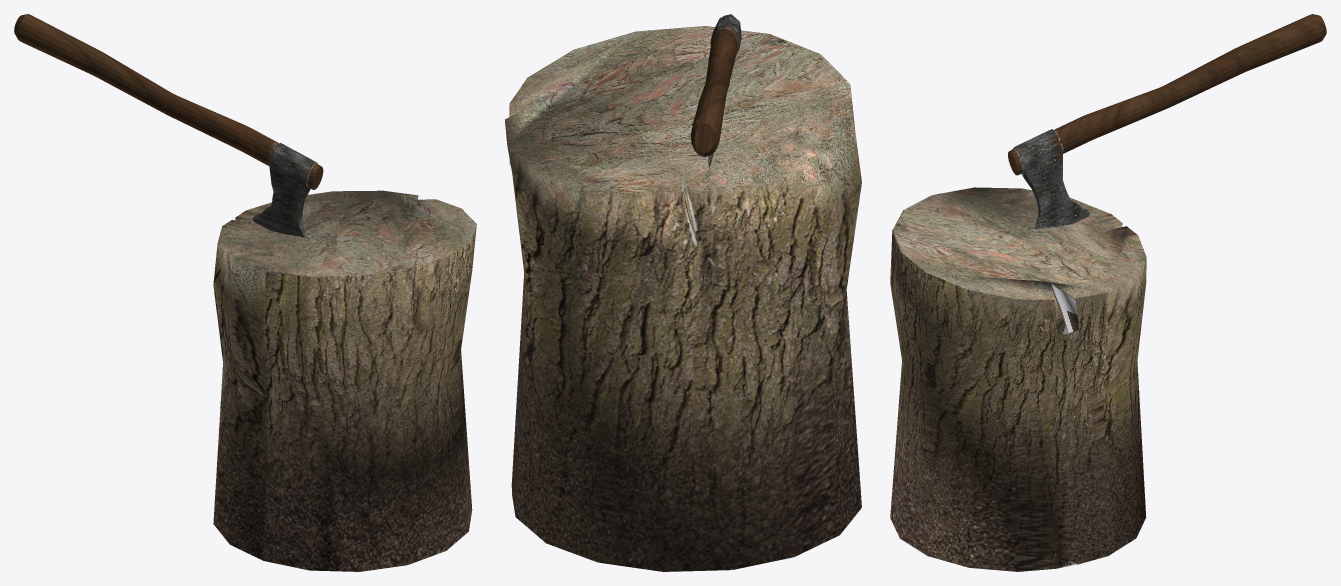
Rendered from TreeStump.fbx.
3 views of the same model, side by side, from view 1: azimuth 30°, elevation 25°; view 2: azimuth 150°, elevation 25°; view 3: azimuth 270°, elevation 25° (orthographic). The views are drawn at different scales.
Visible parts, largest first — view 1: Cylinder.006; view 2: Cylinder.006; view 3: Cylinder.006.
Part boxes in pixels (bbox=[...]): Cylinder.006: bbox=[14, 14, 476, 571]; Cylinder.006: bbox=[505, 14, 861, 571]; Cylinder.006: bbox=[890, 14, 1326, 571].
Bounding box in the file's own units: 151 × 213 × 199.
